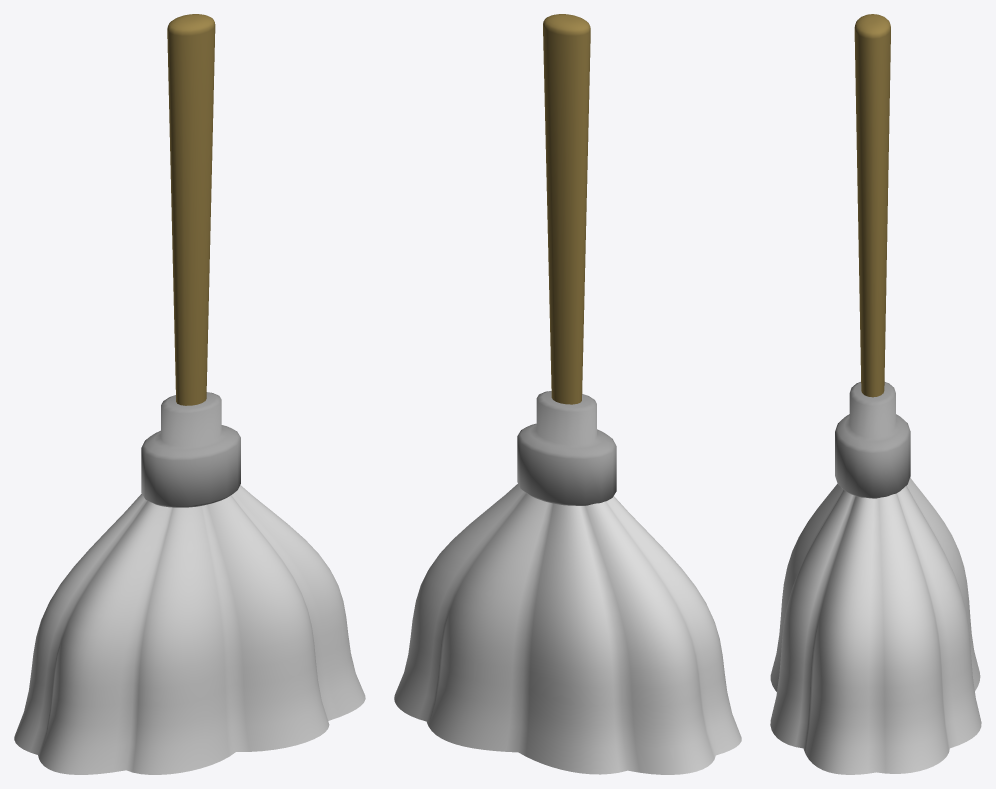
The model's file is Mop.fbx.
3 renders of one model, left to right at view 1: azimuth 30°, elevation 25°; view 2: azimuth 150°, elevation 25°; view 3: azimuth 270°, elevation 25°, orthographic. The views are drawn at different scales.
Parts seen in each view (by area): view 1: Cylinder.001; view 2: Cylinder.001; view 3: Cylinder.001.
Part boxes in pixels (<box>): Cylinder.001: <box>14,14,365,774</box>; Cylinder.001: <box>394,14,741,774</box>; Cylinder.001: <box>770,14,981,774</box>.
Bounding box in the file's own units: 351 × 745 × 209.
